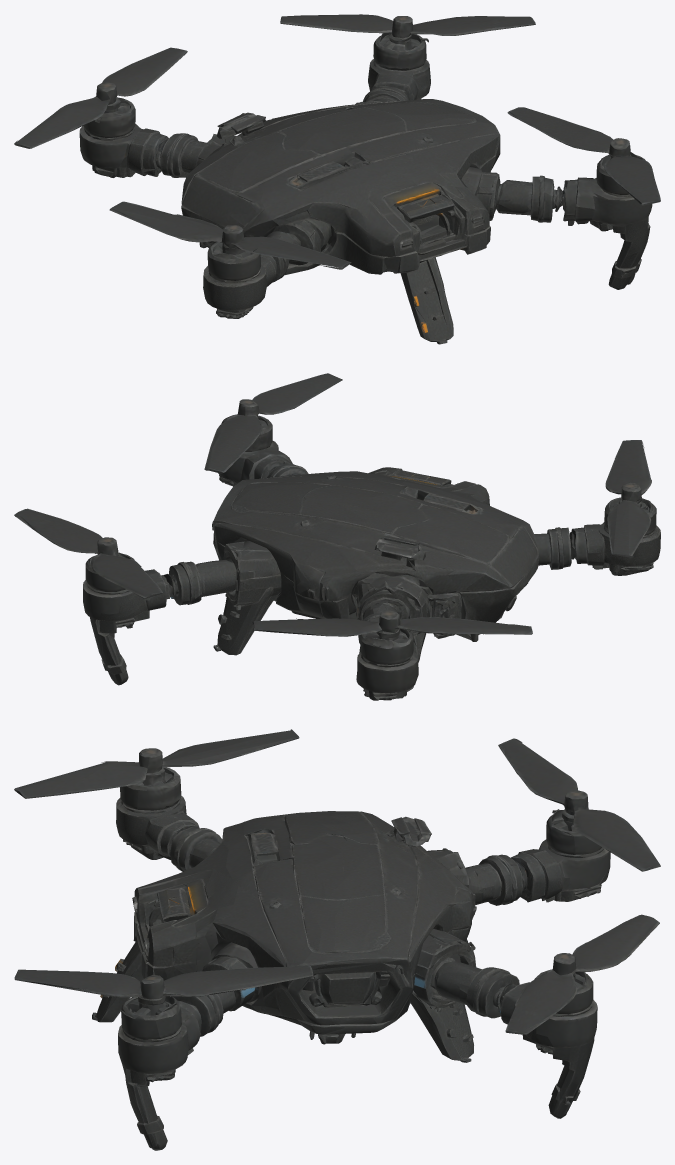
File: TE_drone_chassis.glb
3 views of the same model, one above another, from view 1: azimuth 30°, elevation 25°; view 2: azimuth 150°, elevation 25°; view 3: azimuth 270°, elevation 25° (orthographic). The views are drawn at different scales.
Size of the model in its own units: 1.91 by 0.5482 by 1.78.
Materials: 1 (1 with a texture image).
